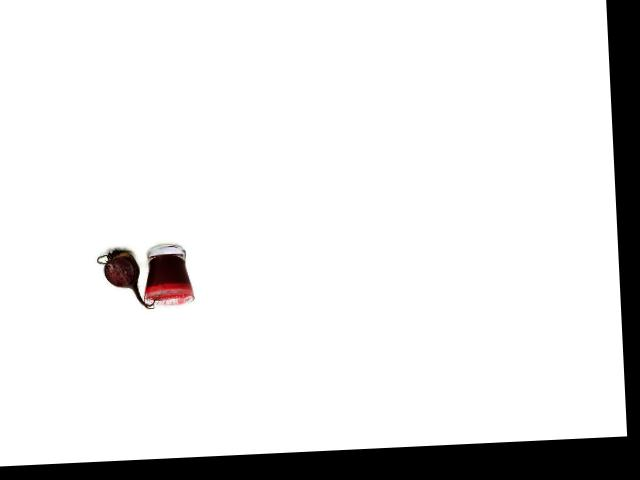beet: (97, 246, 162, 311)
